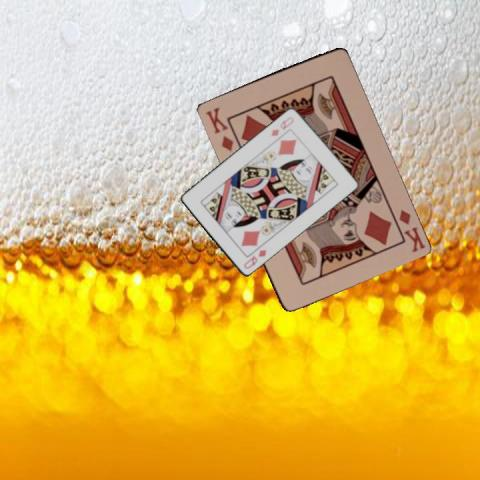Kd: (202, 104, 235, 153), (395, 206, 427, 253)
Qd: (241, 246, 268, 270), (268, 114, 295, 138)
